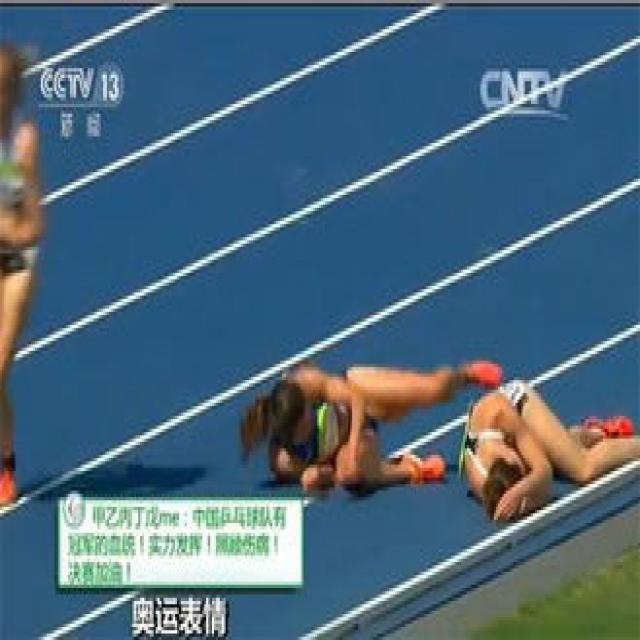Fall: (255, 360, 506, 495)
